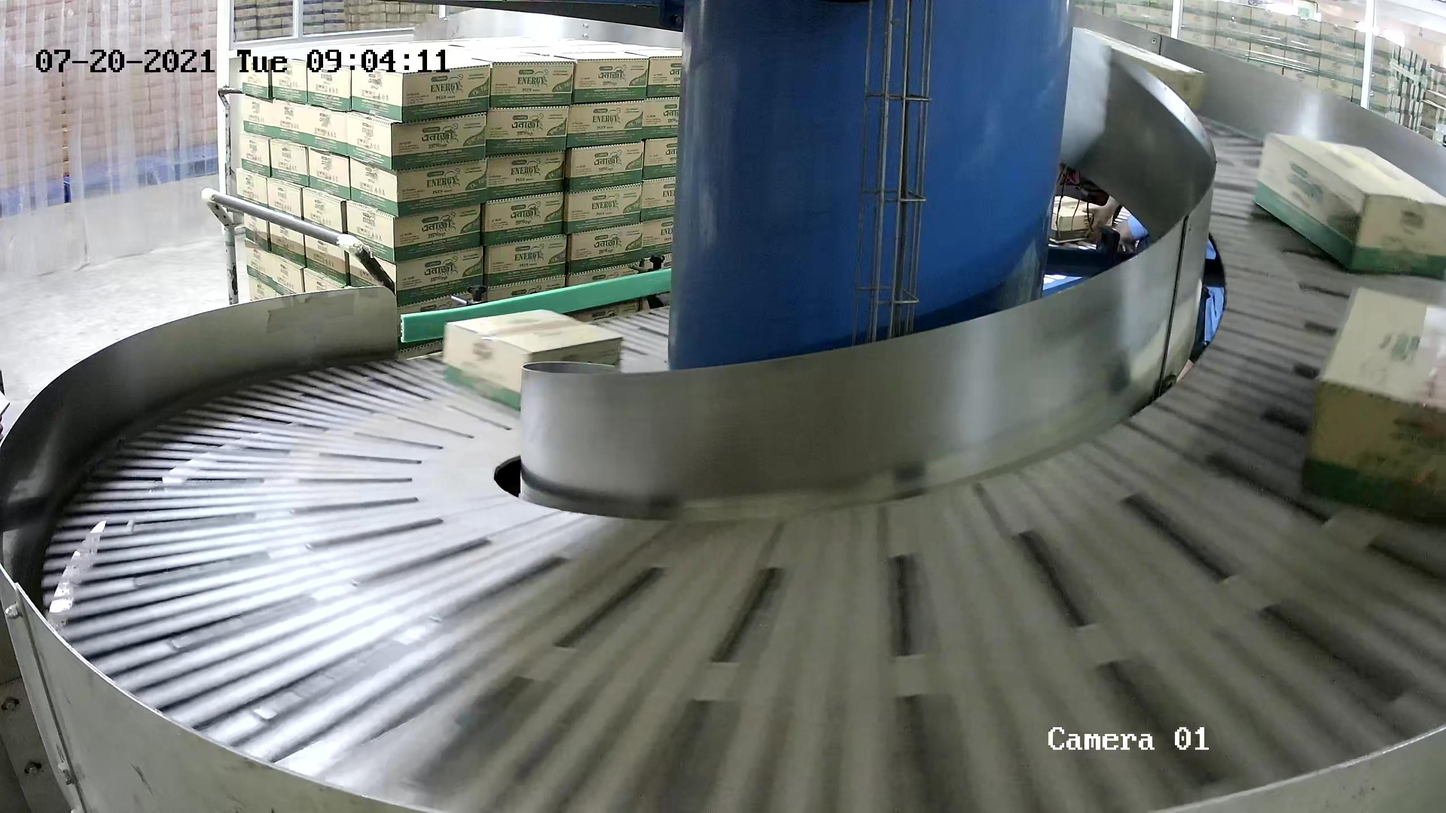Box: (1300, 284, 1446, 521), (1251, 131, 1446, 276), (442, 308, 625, 411)
